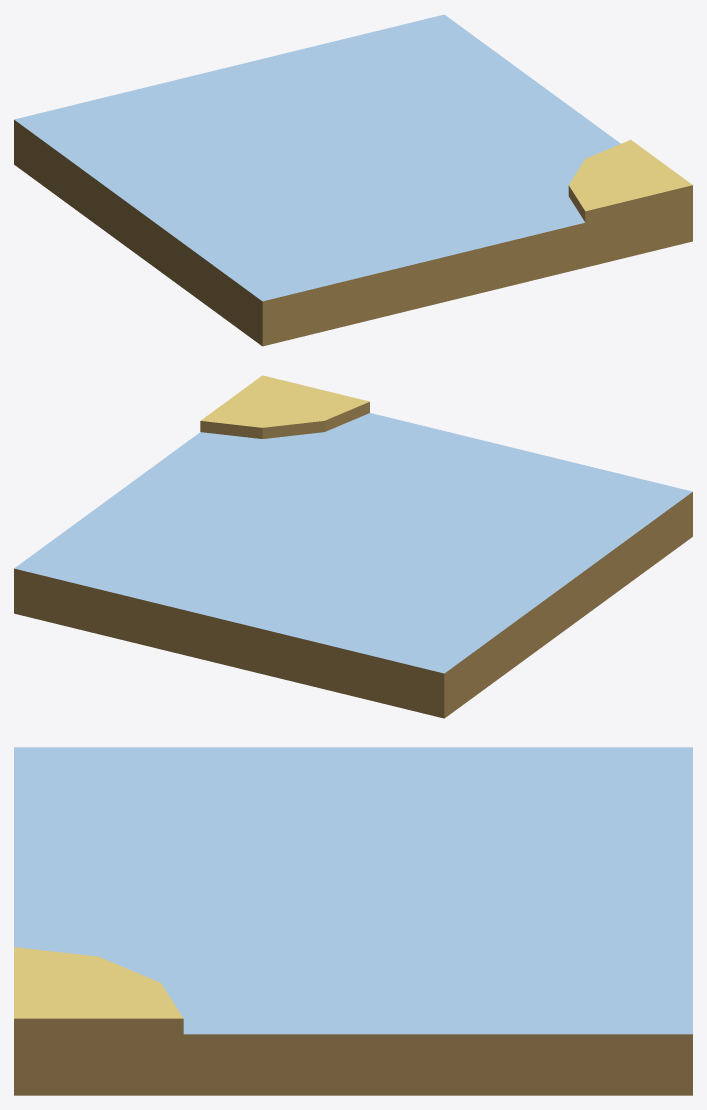
The model's file is Terrain_Tile_Sand_Water_Bank_Corner_04.fbx.
The picture shows the model from 3 angles, top to bottom: view 1: azimuth 30°, elevation 25°; view 2: azimuth 150°, elevation 25°; view 3: azimuth 270°, elevation 25°; orthographic projection. The views are drawn at different scales.
Parts seen in each view (by area): view 1: Terrain_Tile_Sand_Water_Bank_Corner_04; view 2: Terrain_Tile_Sand_Water_Bank_Corner_04; view 3: Terrain_Tile_Sand_Water_Bank_Corner_04.
Part boxes in pixels (x1,y1,x2,y2): Terrain_Tile_Sand_Water_Bank_Corner_04: (14, 14, 692, 346); Terrain_Tile_Sand_Water_Bank_Corner_04: (14, 375, 692, 718); Terrain_Tile_Sand_Water_Bank_Corner_04: (14, 747, 692, 1095).
Size of the model in its own units: 126 by 15.75 by 126.
